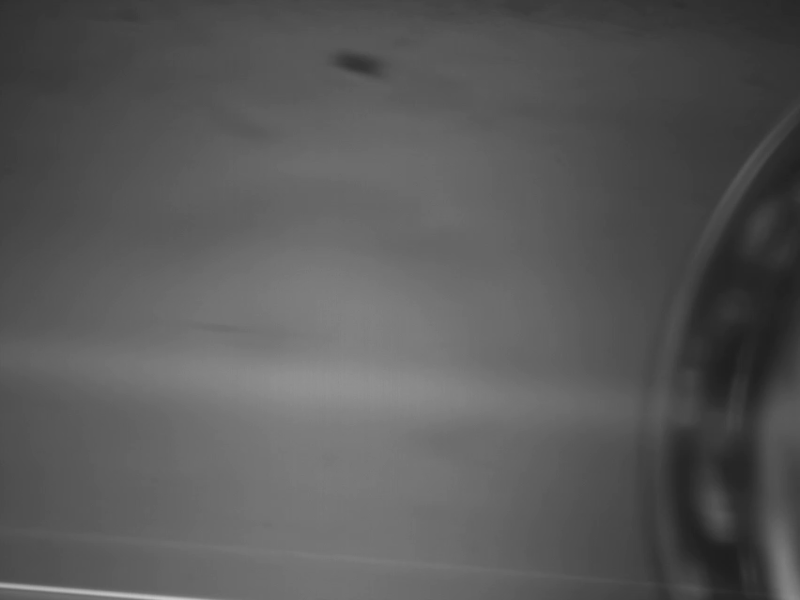bead: (326, 44, 390, 89)
